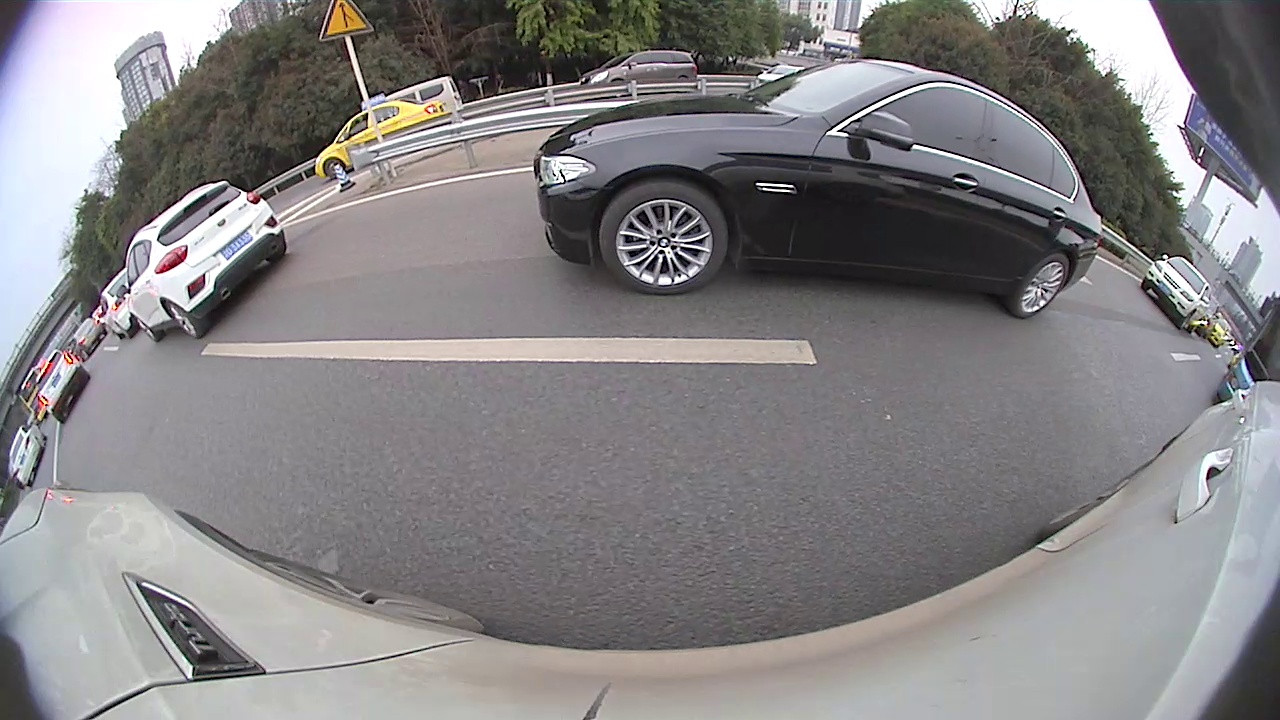car: (528, 55, 1106, 326), (123, 180, 290, 344), (313, 98, 447, 182), (1138, 254, 1215, 337), (359, 74, 468, 122), (573, 49, 702, 89), (33, 347, 92, 425), (98, 268, 139, 338)
front: (597, 176, 729, 296), (322, 157, 347, 179)
rear: (1010, 250, 1074, 321), (162, 299, 204, 340)
